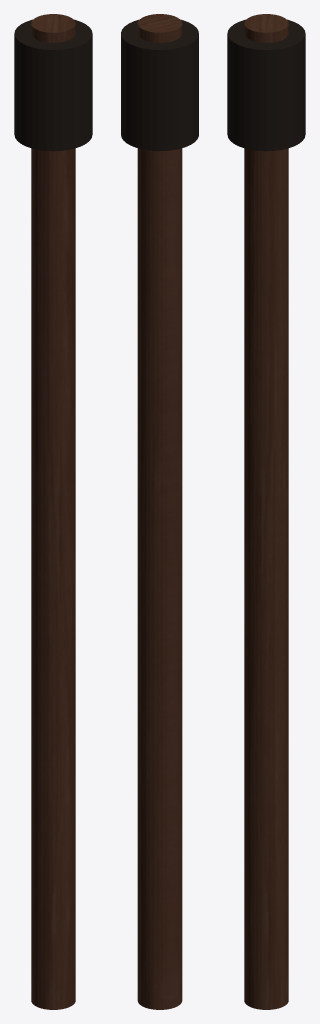
Rendered from torch_m2.fbx.
The picture shows the model from 3 angles, left to right: view 1: azimuth 90°, elevation 25°; view 2: azimuth 210°, elevation 25°; view 3: azimuth 270°, elevation 25°; orthographic projection.
Visible parts, largest first — view 1: Torch; view 2: Torch; view 3: Torch.
Part boxes in pixels (x1=…): Torch: x1=14, y1=14, x2=92, y2=1009; Torch: x1=121, y1=14, x2=198, y2=1009; Torch: x1=227, y1=14, x2=305, y2=1009.
Bounding box in the file's own units: 0.14 × 0.14 × 1.93.
